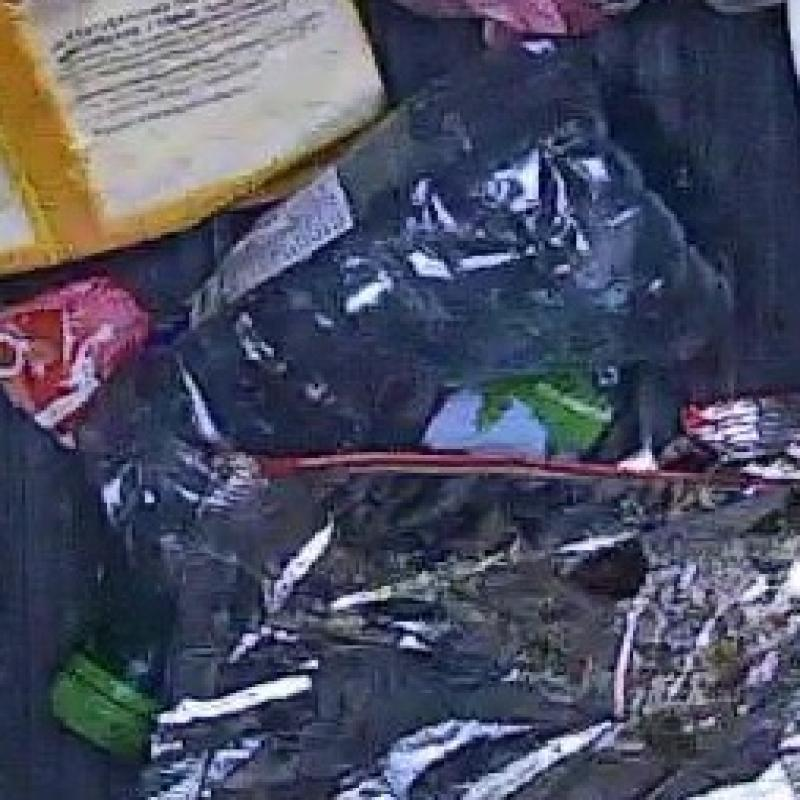botella: (64, 47, 735, 764)
